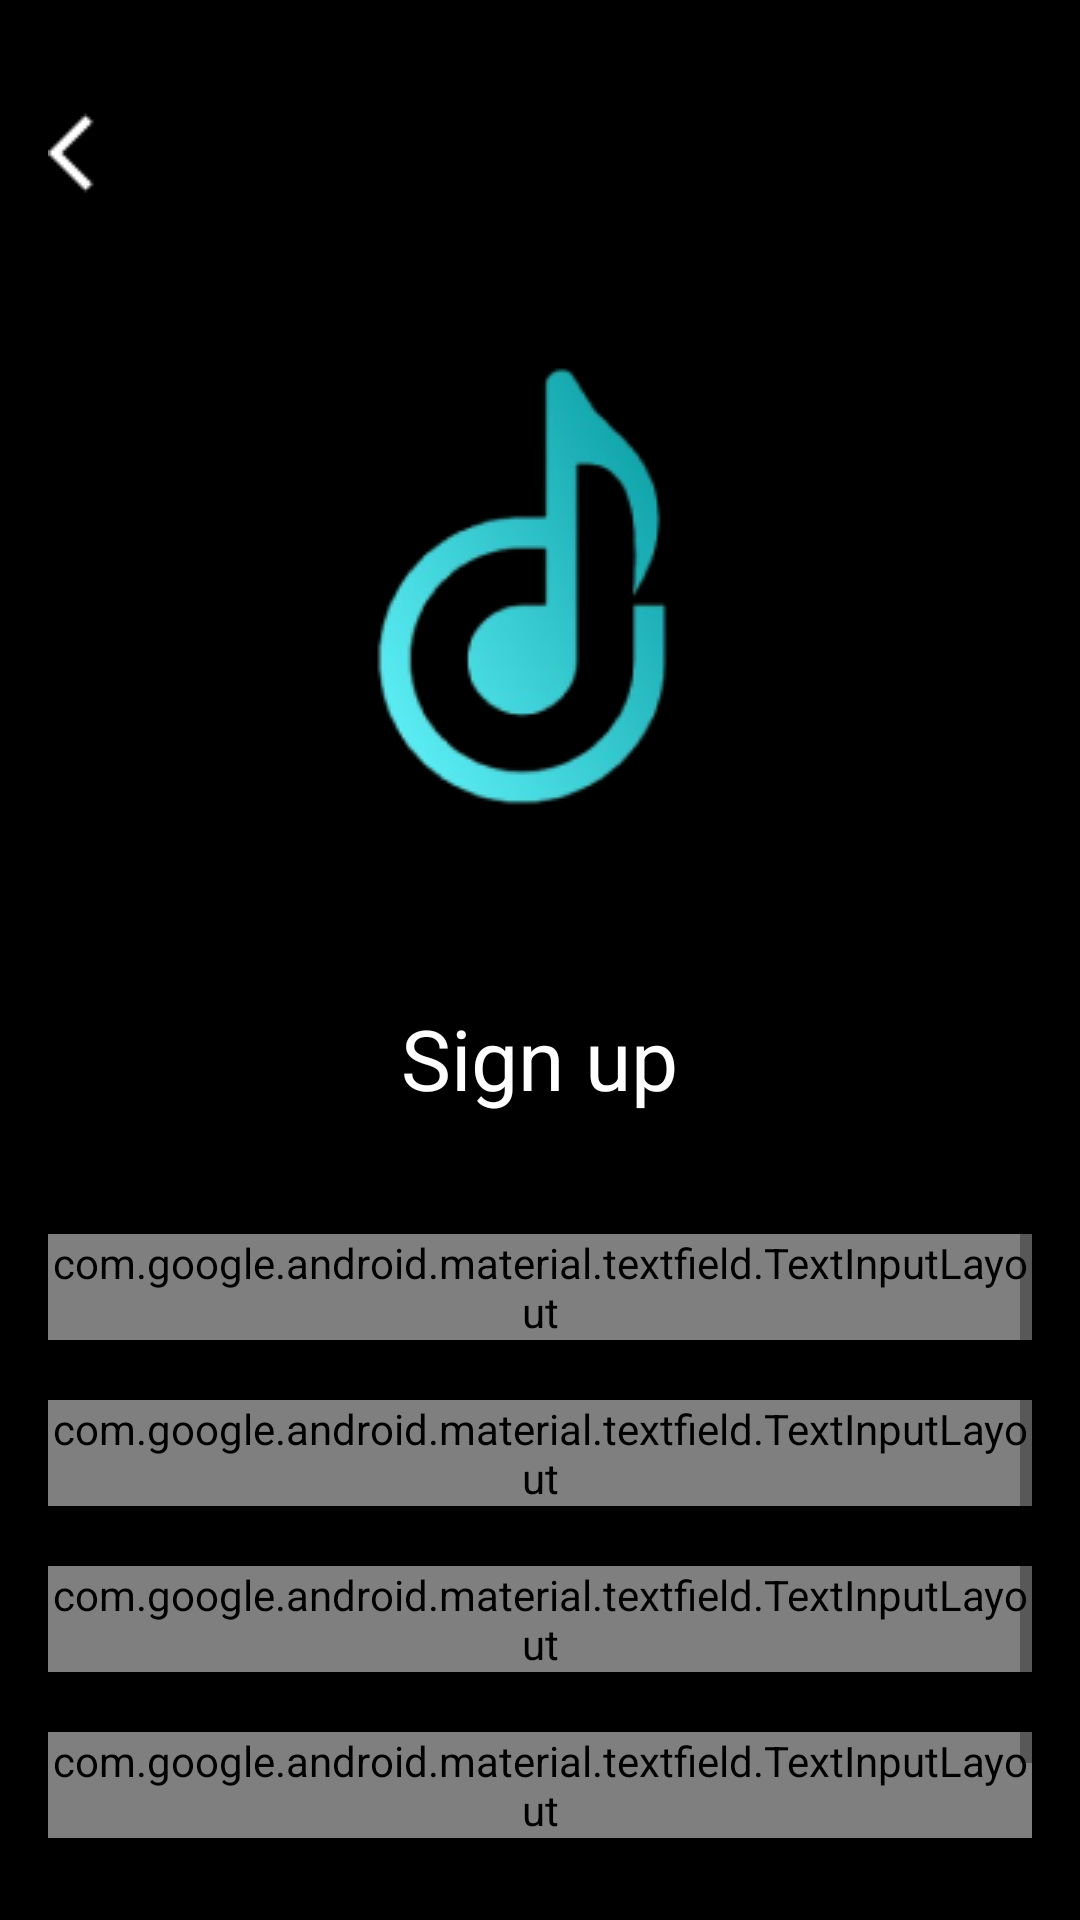

Point at icon controls on the screen. Image size 1080px x 1920px, points as [x,y].
symbols arrow back: [71,153]
